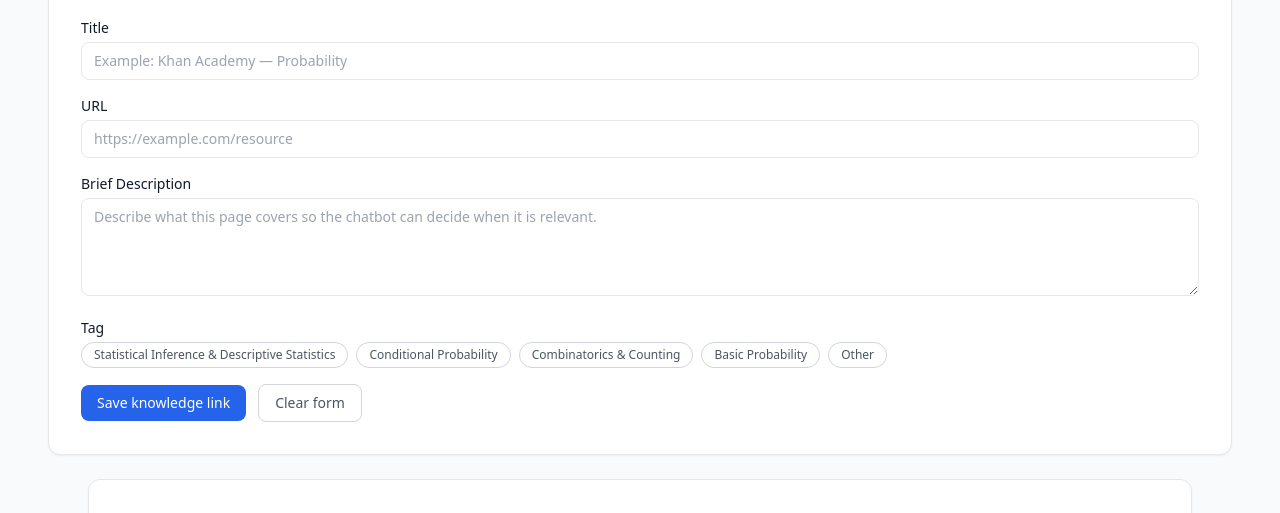
Test: LinkPanelPage › creates a new knowledge link and resets the form
Type "New Resource" into the field with placeholder "Example: Khan Academy — Probability" at (640, 61), box [81,42,1199,80]
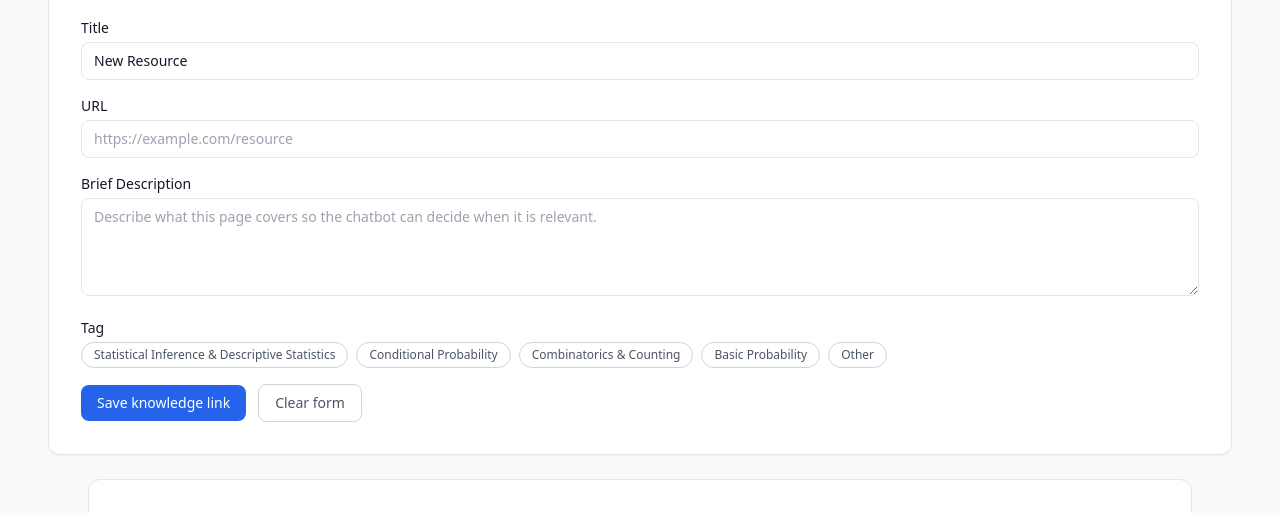
Type "https://example.com/new-resource" into the field with placeholder "https://example.com/resource" at (640, 139), box [81,120,1199,158]
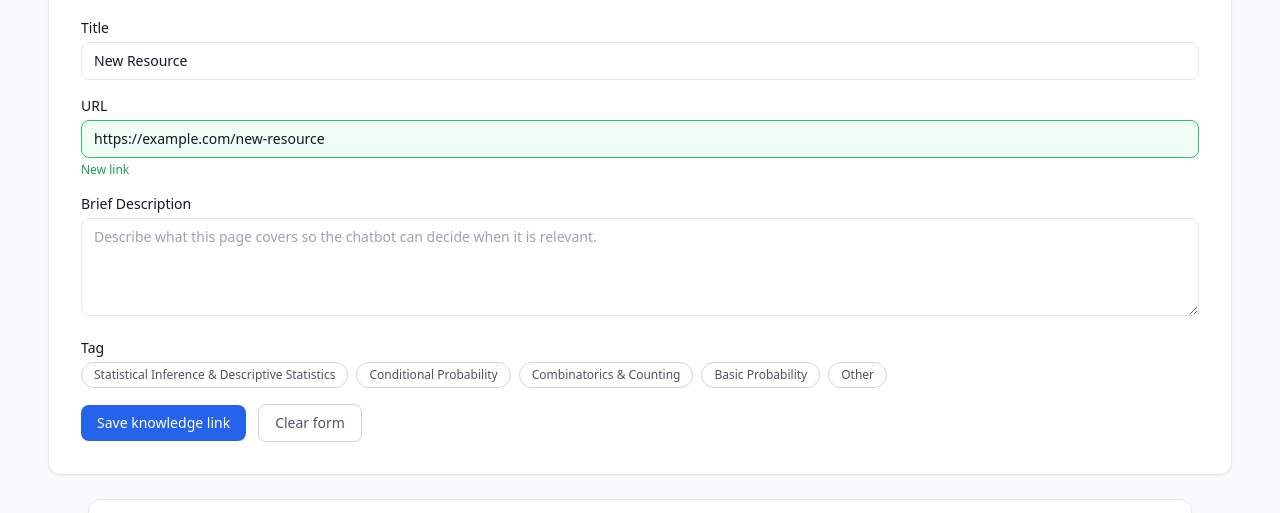
Replace the text in the text box with "A description" at (640, 267), box [81,218,1199,316]
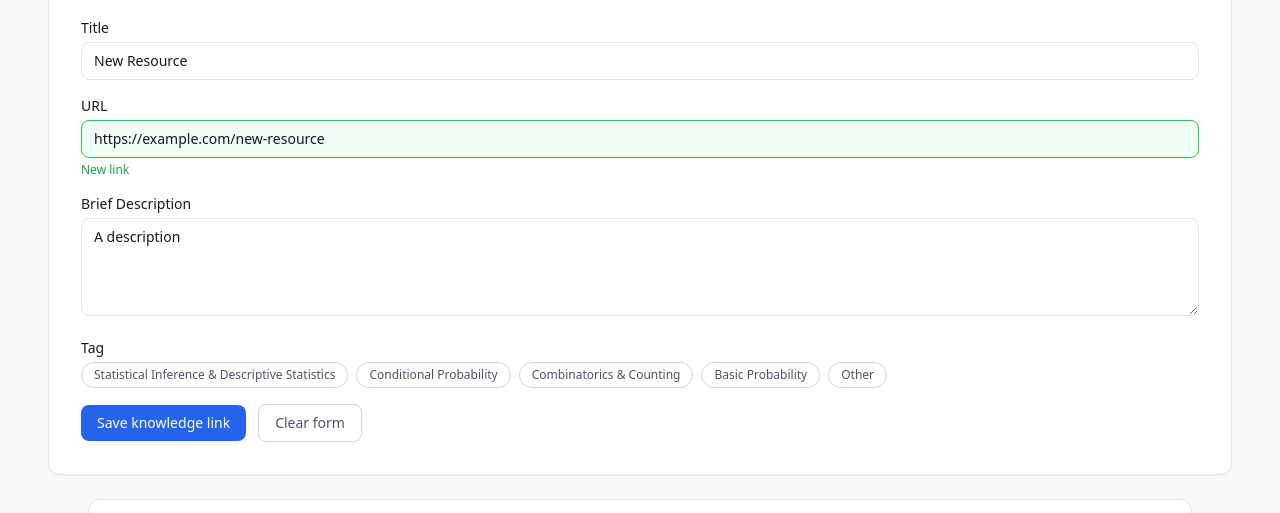
Click the button "Basic Probability" at (761, 375), box [702,362,820,388]
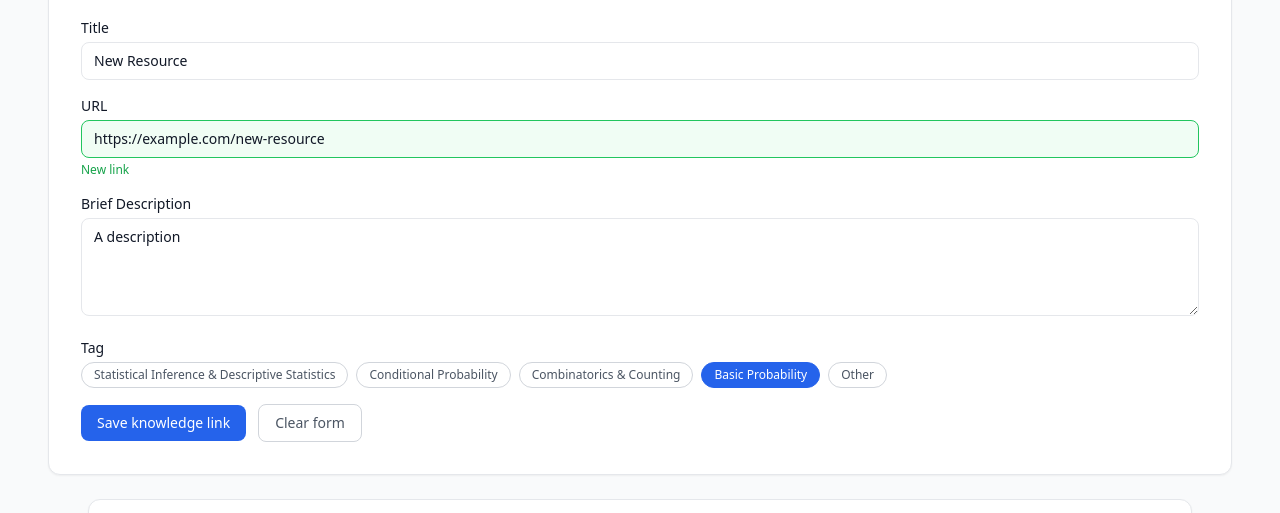
Click the button "Save knowledge link" at (164, 423), box [81,405,246,441]
(page scrolled)
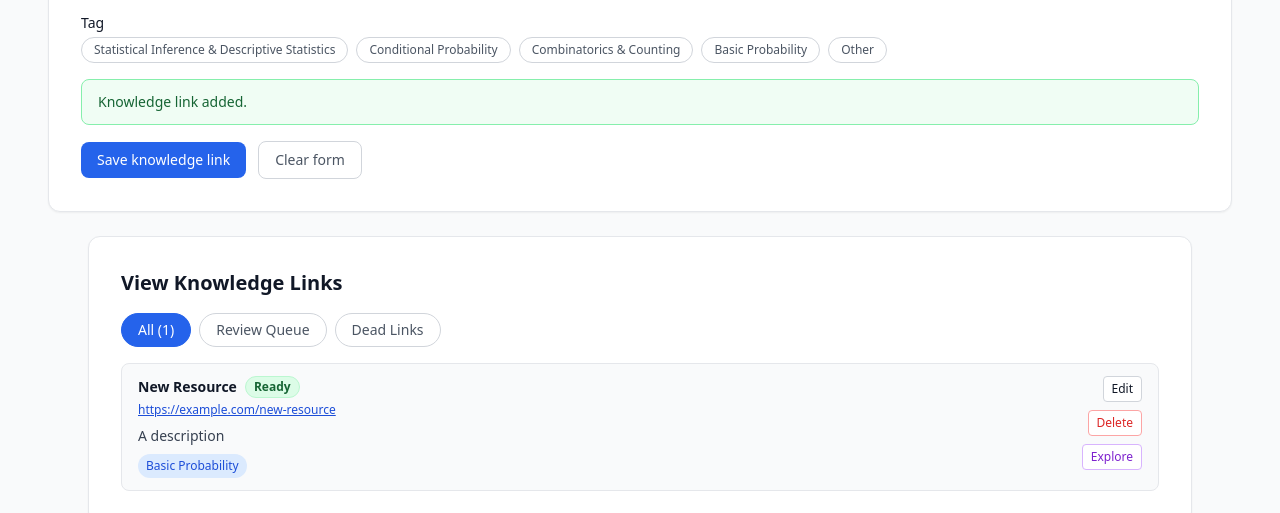
Check: the text "Knowledge link added." is shown, box [81,79,1199,125]
Check: the text "New Resource" is shown, box [138,377,237,397]
